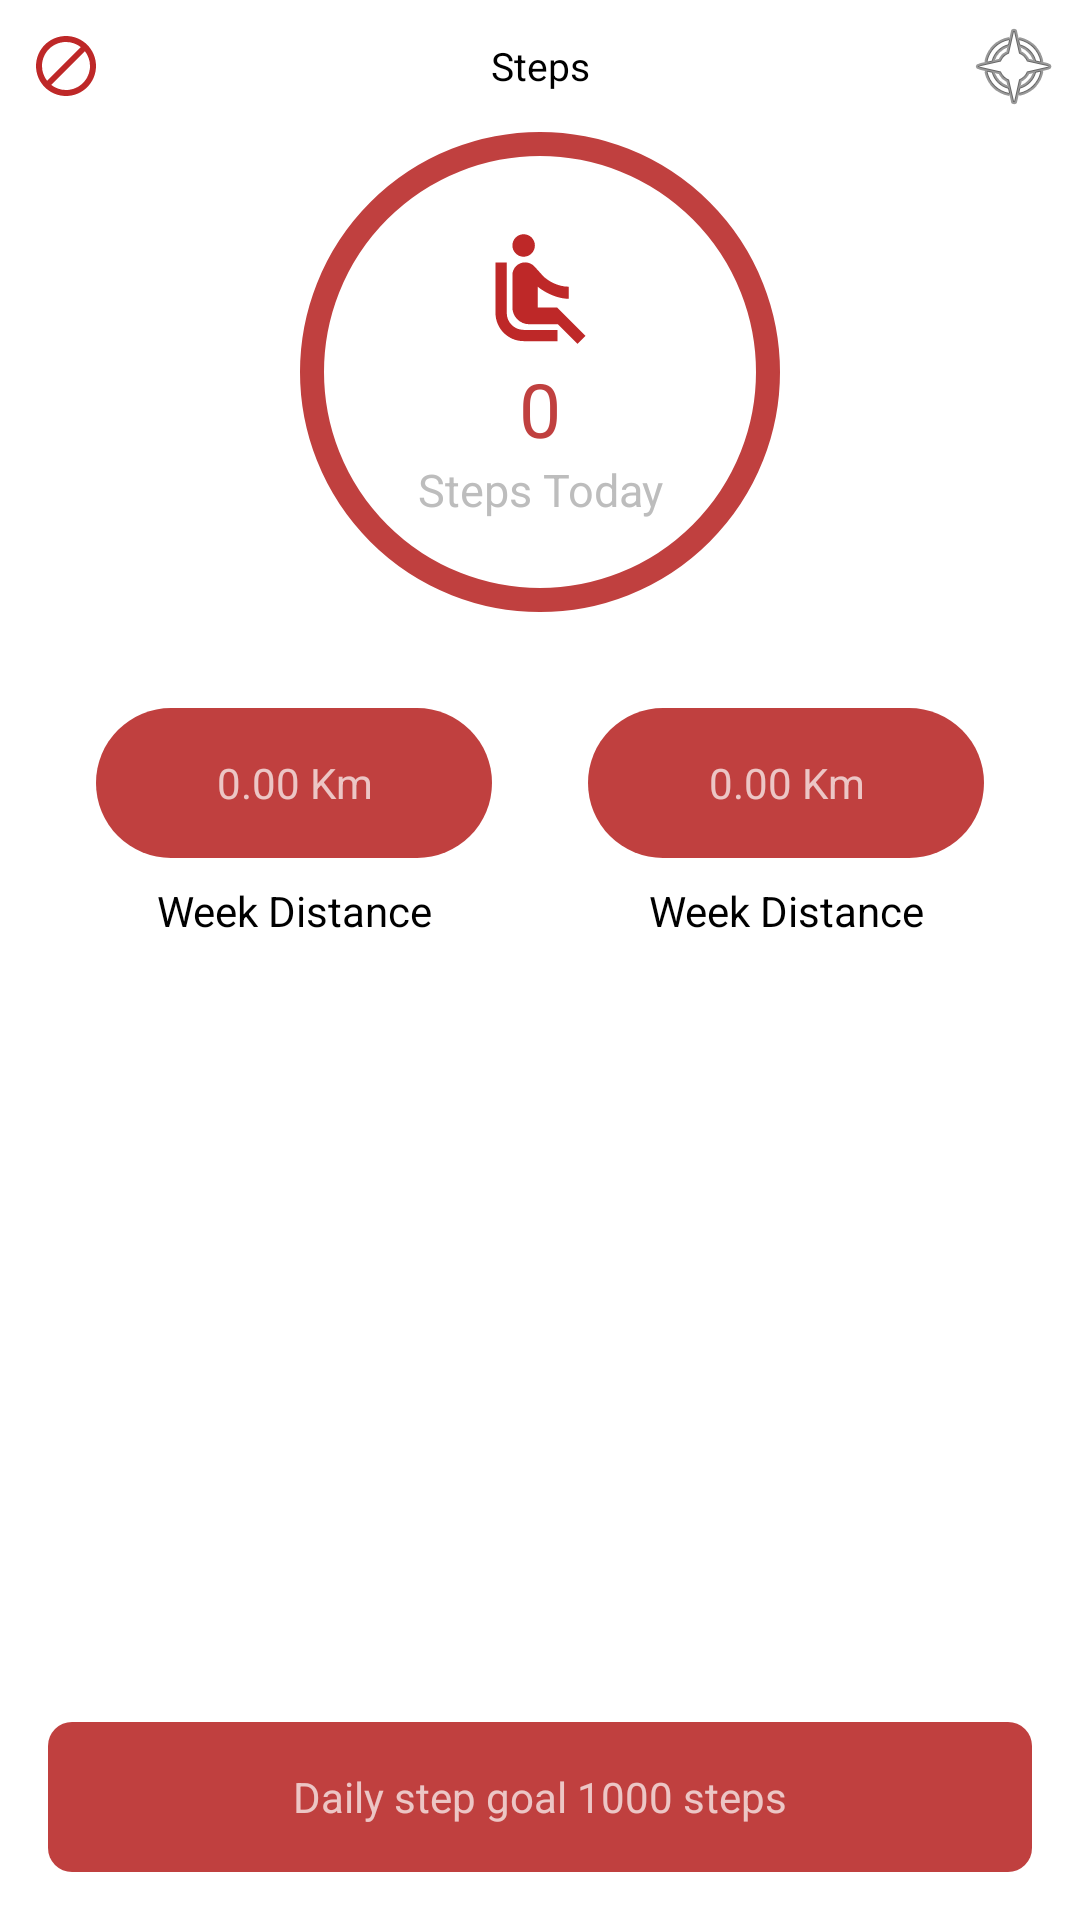

Icons on this 1080*1920 Android screen, each with its box as (x1, y1, x2, y2):
block: (36, 36, 96, 96)
compass: (976, 29, 1052, 104)
people: (495, 234, 586, 344)
